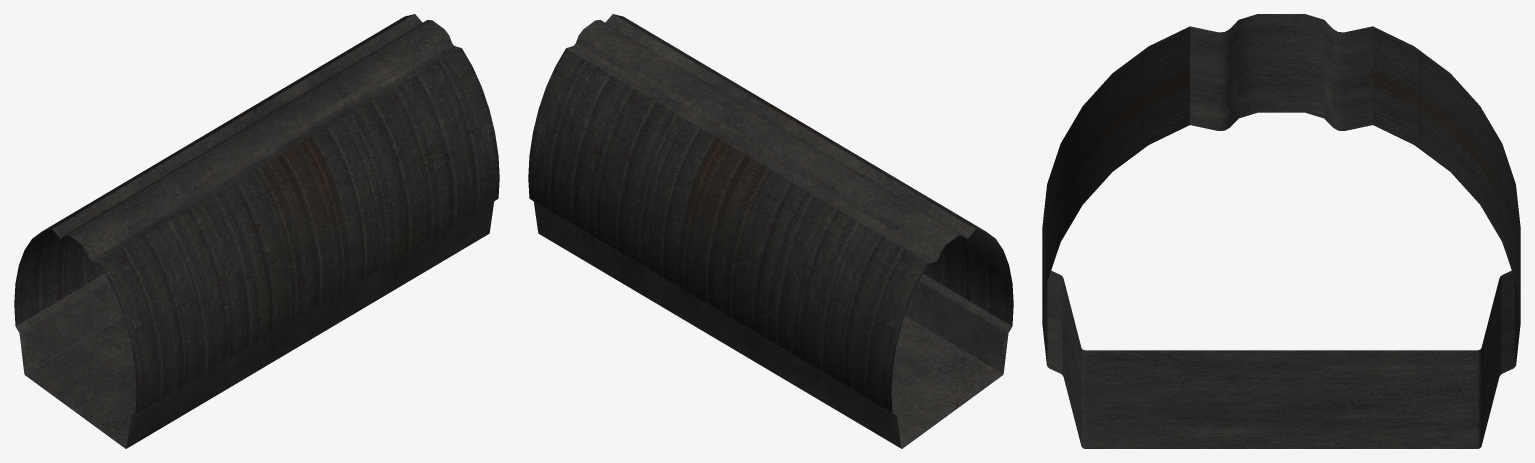
File: tunnel_straight_down_2.fbx
3 views of the same model, side by side, from view 1: azimuth 30°, elevation 25°; view 2: azimuth 150°, elevation 25°; view 3: azimuth 270°, elevation 25° (orthographic). The views are drawn at different scales.
Visible parts, largest first — view 1: tunnel_straight_down_2; view 2: tunnel_straight_down_2; view 3: tunnel_straight_down_2.
Boxes of the visible parts, x1=… form: tunnel_straight_down_2: x1=14, y1=14, x2=499, y2=448; tunnel_straight_down_2: x1=528, y1=14, x2=1013, y2=448; tunnel_straight_down_2: x1=1042, y1=14, x2=1520, y2=448.
Bounding box in the file's own units: 6 × 3.5 × 4.72.
